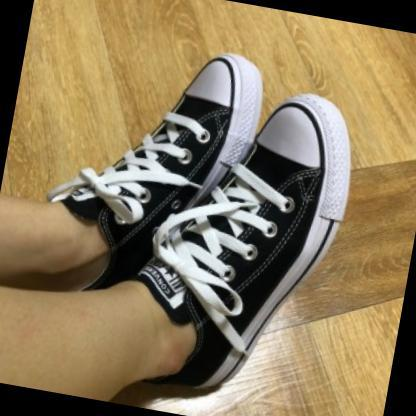no_safety-shoe: (165, 68, 374, 415)
